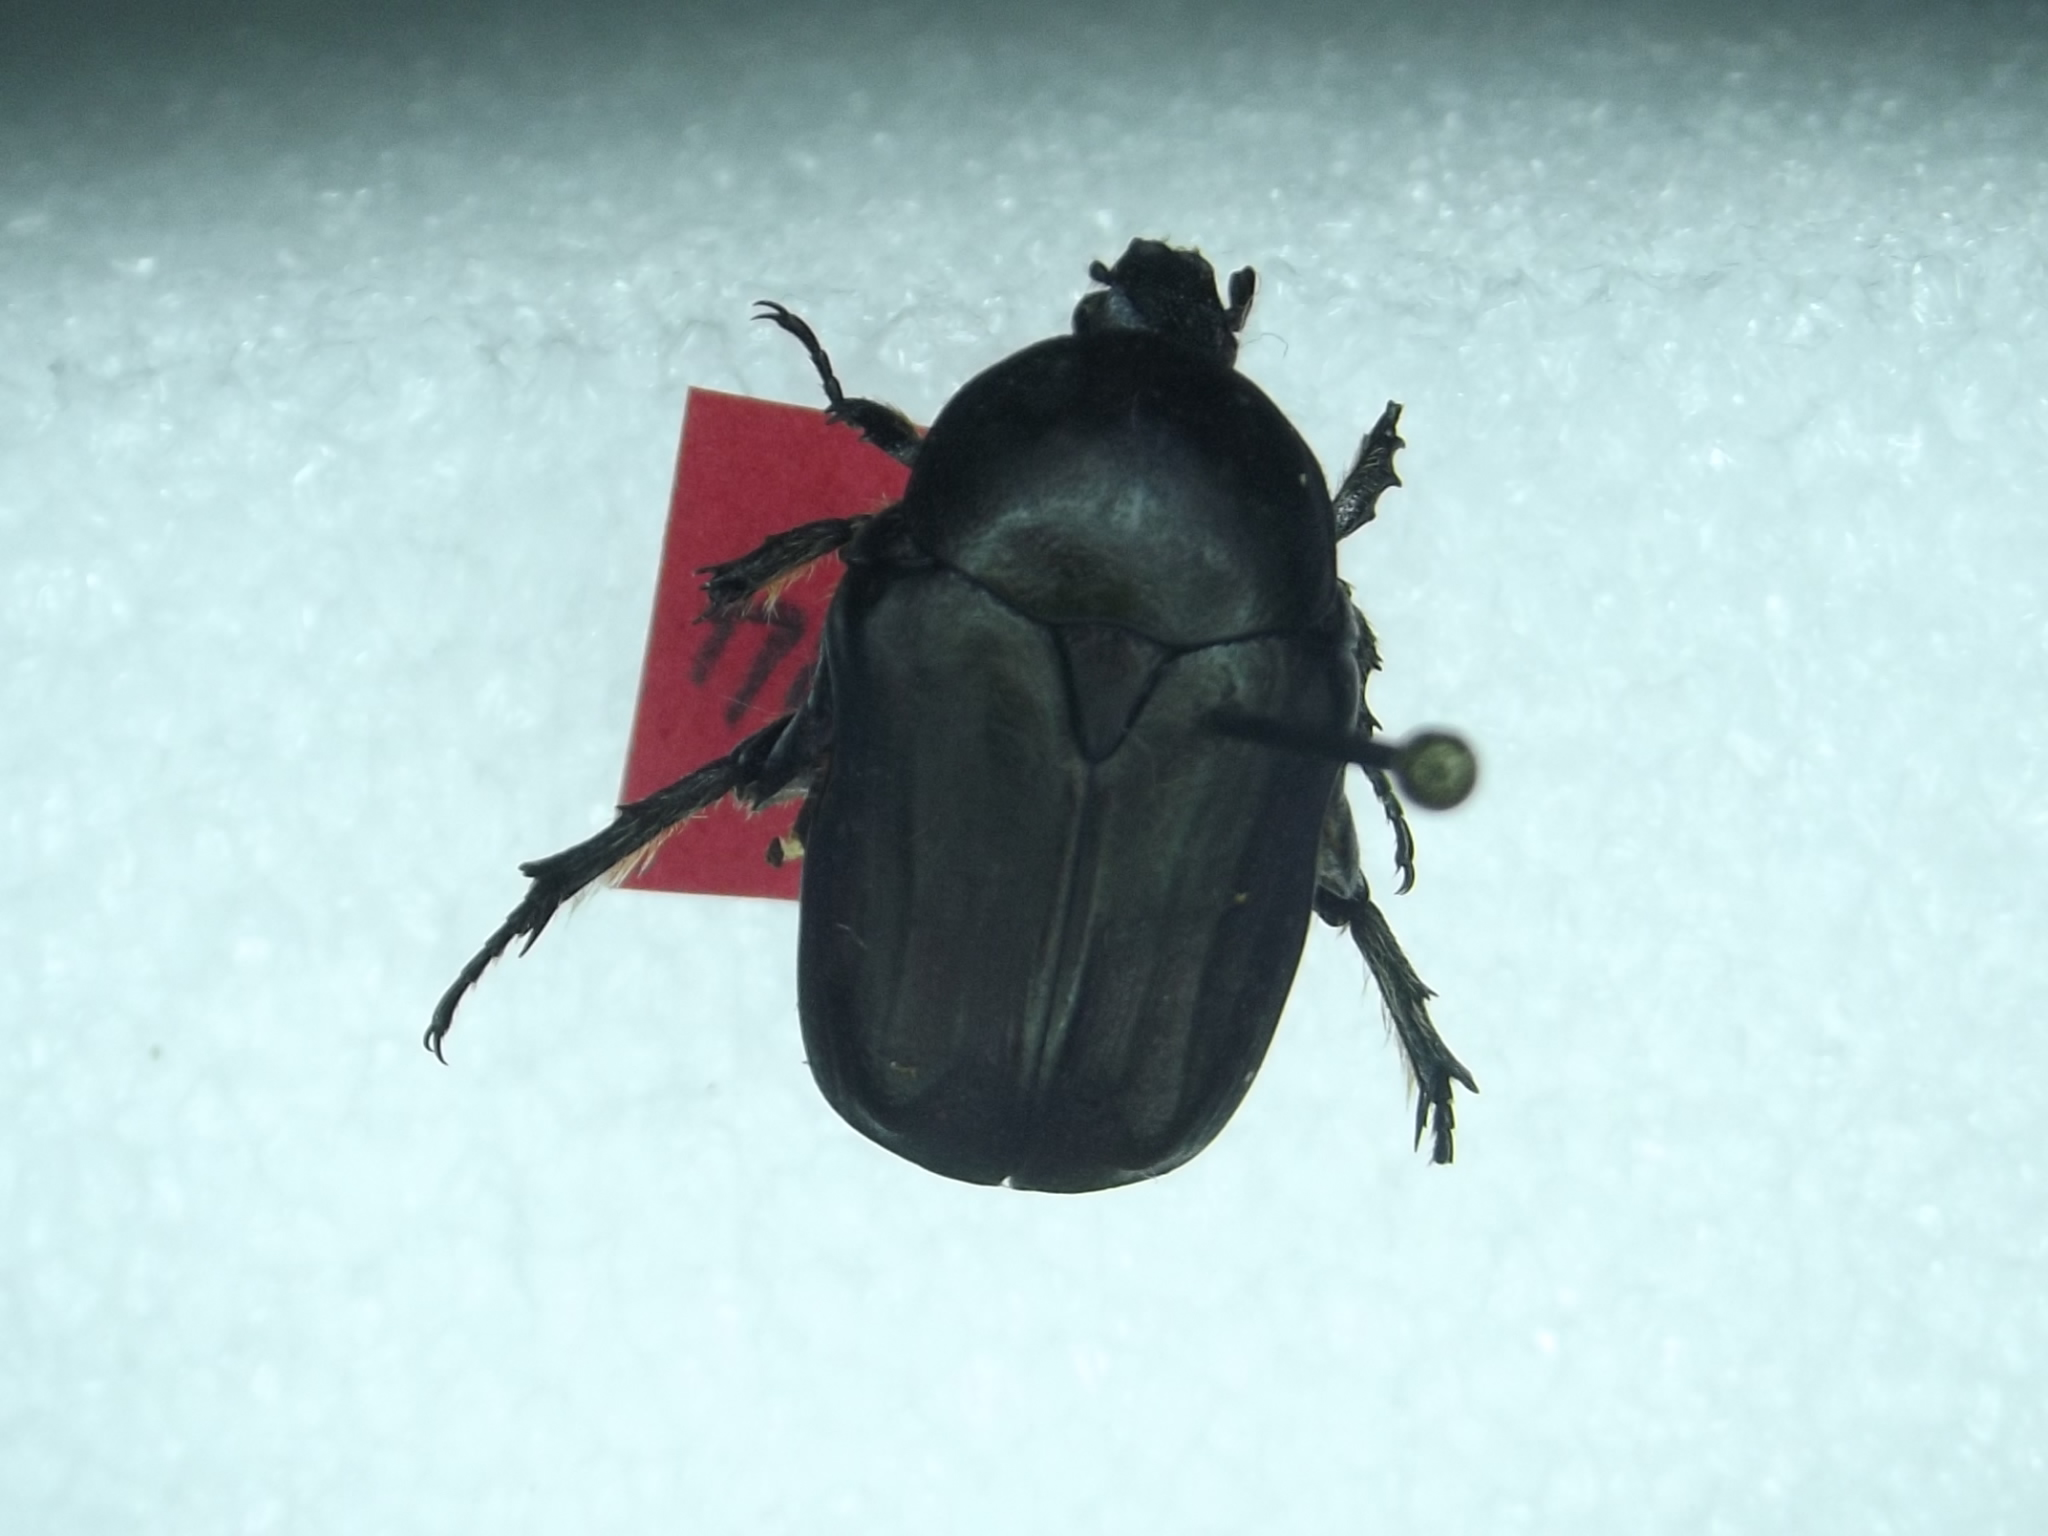Protaetia_vidua: (393, 231, 1488, 1218)
